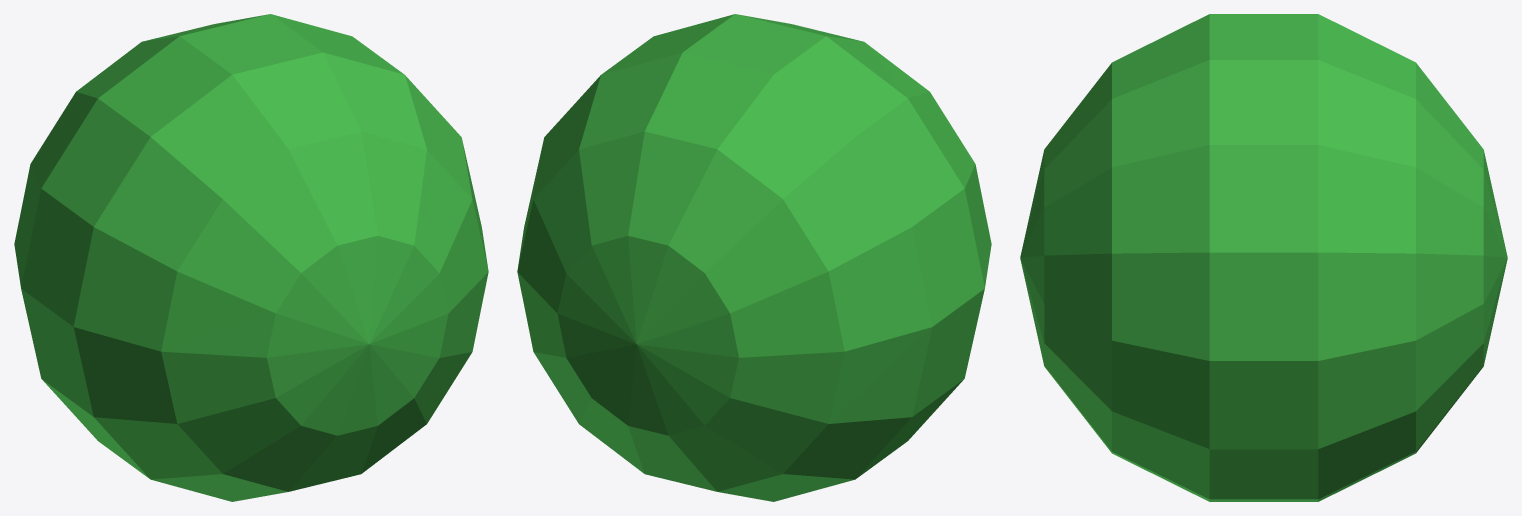
The model's file is sphere_green.obj.
The picture shows the model from 3 angles, left to right: view 1: azimuth 30°, elevation 25°; view 2: azimuth 150°, elevation 25°; view 3: azimuth 270°, elevation 25°; orthographic projection. The views are drawn at different scales.
Parts seen in each view (by area): view 1: obj_0; view 2: obj_0; view 3: obj_0.
Boxes of the visible parts, x1,y1,x2,y2 form: obj_0: [14, 14, 488, 501]; obj_0: [517, 14, 991, 501]; obj_0: [1020, 14, 1507, 501].
Bounding box in the file's own units: 2 × 2 × 2.
